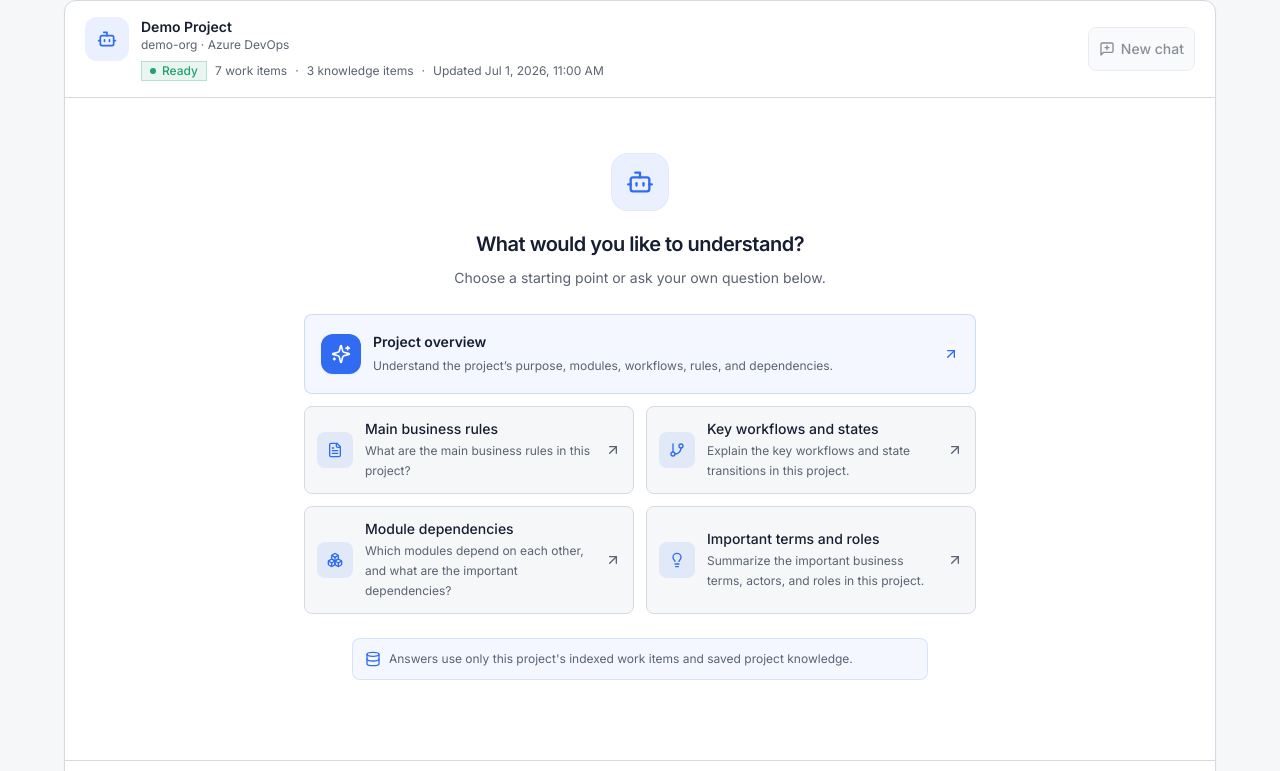
BusinessOwnerAssistantClient › confirms before starting a new chat
Check: the button "New chat" is disabled, box [1088, 27, 1195, 71]
Click the button "Main business rules".
click(469, 450)  # box [304, 406, 634, 494]
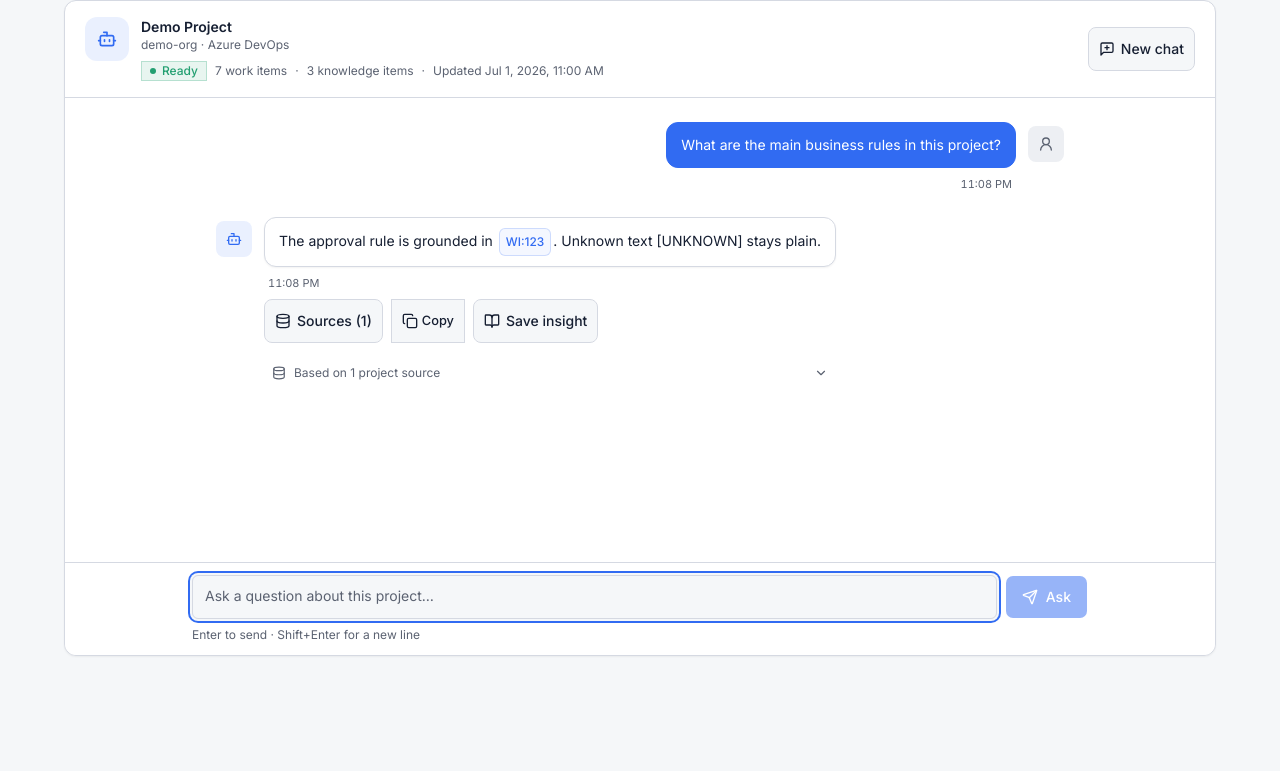
Check: the text "approval rule is grounded" is shown, box [279, 232, 497, 248]
Check: the button "New chat" is enabled
Click the button "New chat".
click(1141, 49)  # box [1088, 27, 1195, 71]
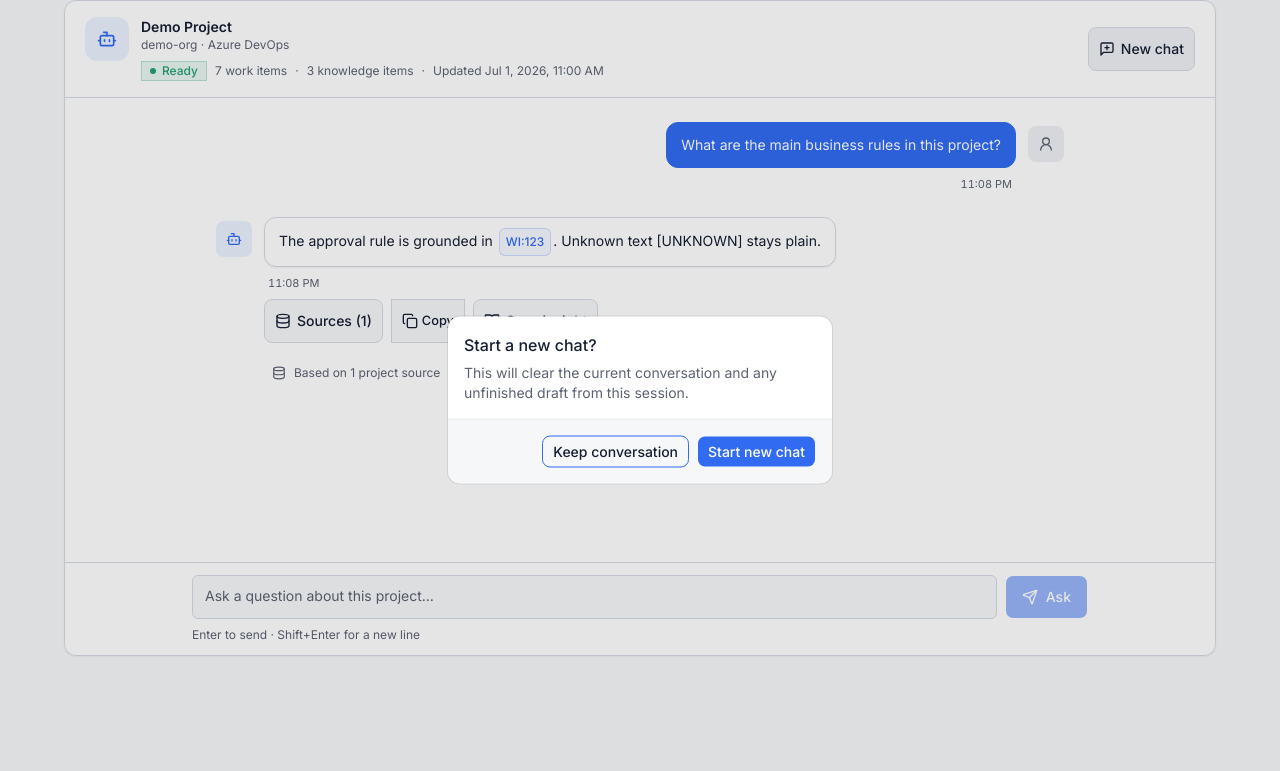
Check: the heading "Start a new chat?" is shown, box [464, 332, 597, 356]
Click the button "Keep conversation".
click(616, 452)  # box [542, 436, 689, 468]
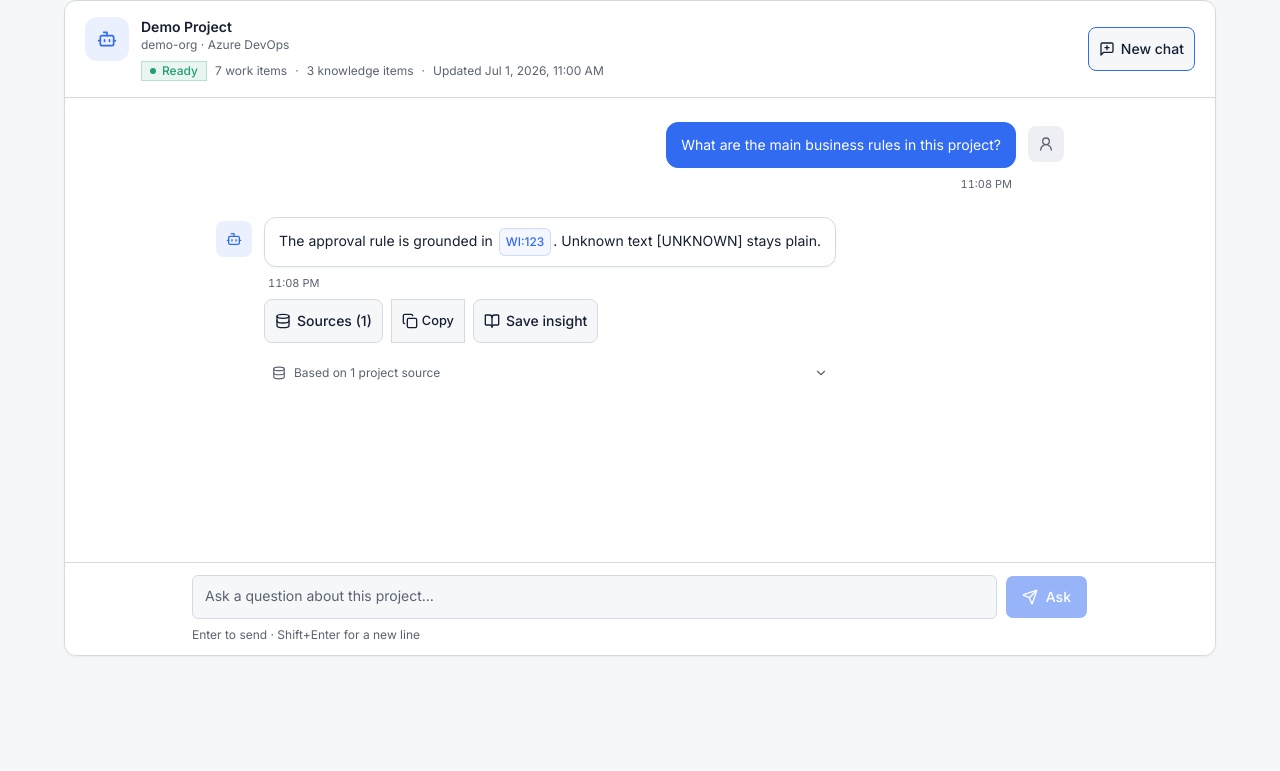
Check: the text "approval rule is grounded" is shown, box [279, 232, 497, 248]
Click the button "New chat".
click(1141, 49)  # box [1088, 27, 1195, 71]
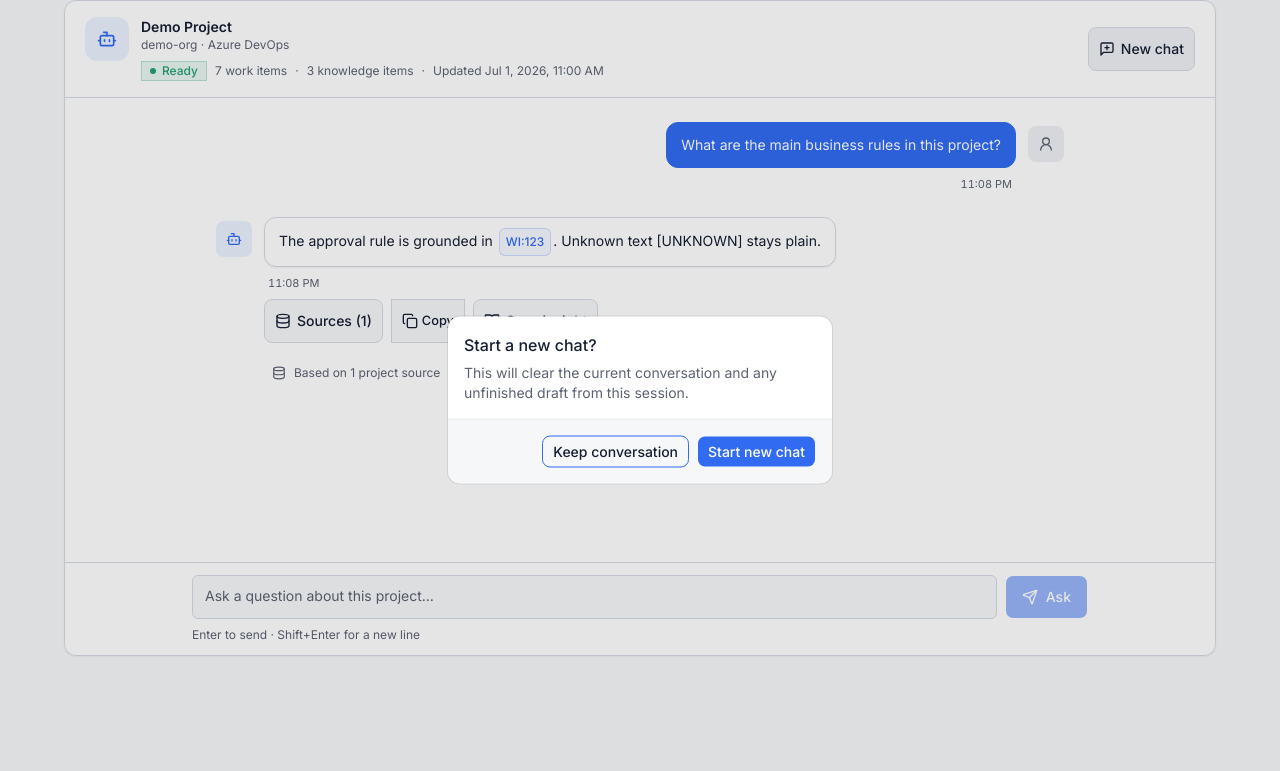
Click the button "Start new chat".
click(756, 452)  # box [697, 436, 816, 468]
(page scrolled)
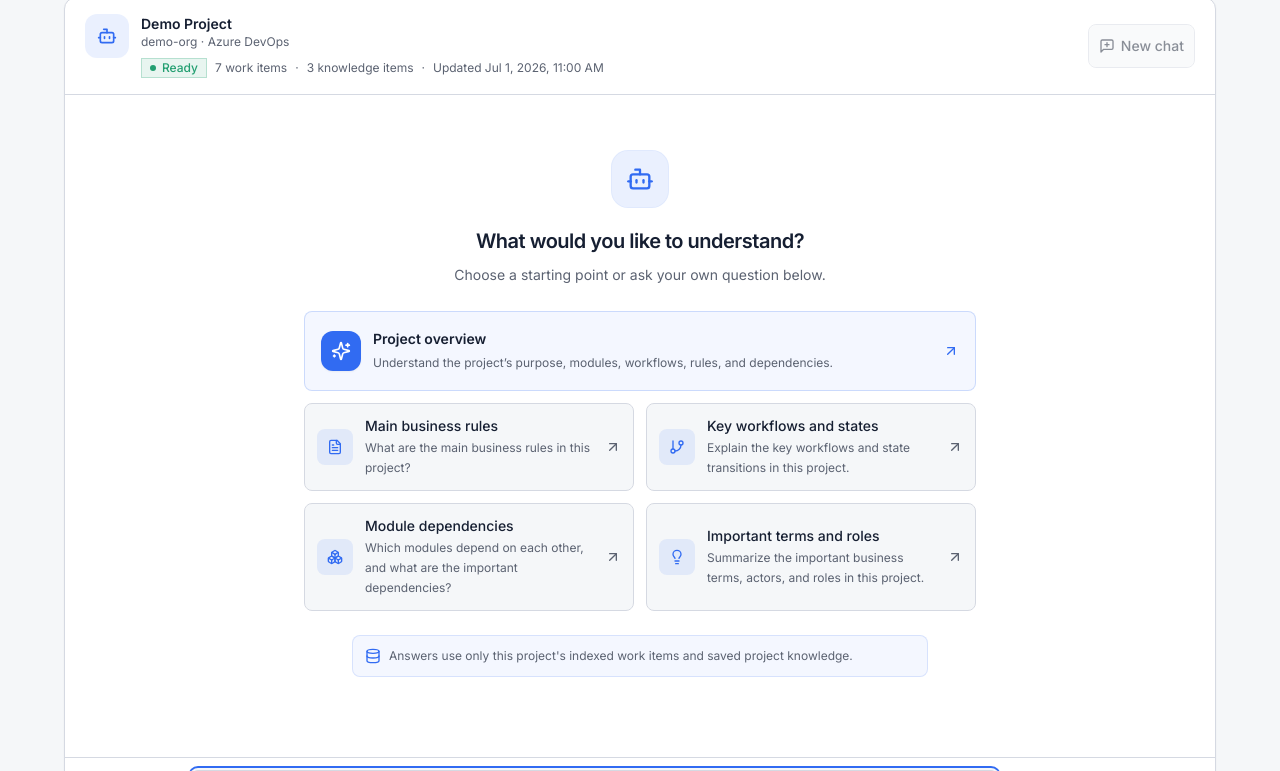
Check: the heading "What would you like to understand?" is shown, box [476, 229, 804, 253]
Check: the button "New chat" is disabled, box [1088, 24, 1195, 68]
